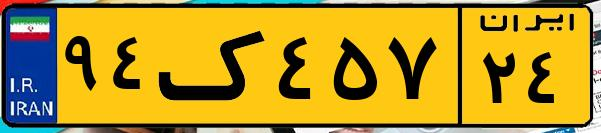2: (475, 38, 525, 113)
4: (270, 28, 330, 110), (525, 38, 570, 115), (110, 28, 158, 98)
5: (330, 28, 385, 110)
7: (385, 28, 445, 110)
9: (57, 26, 110, 100)
ک: (158, 12, 270, 120)
